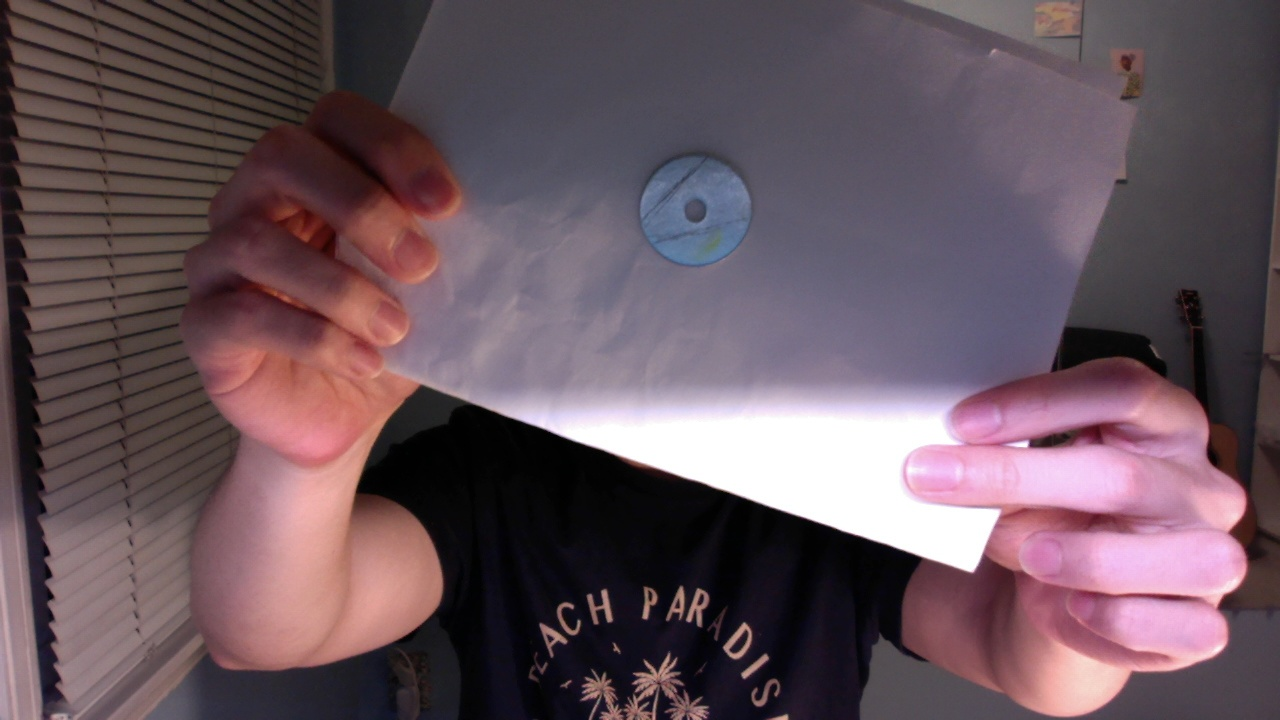DetectiveWashers: (642, 161, 751, 243)
